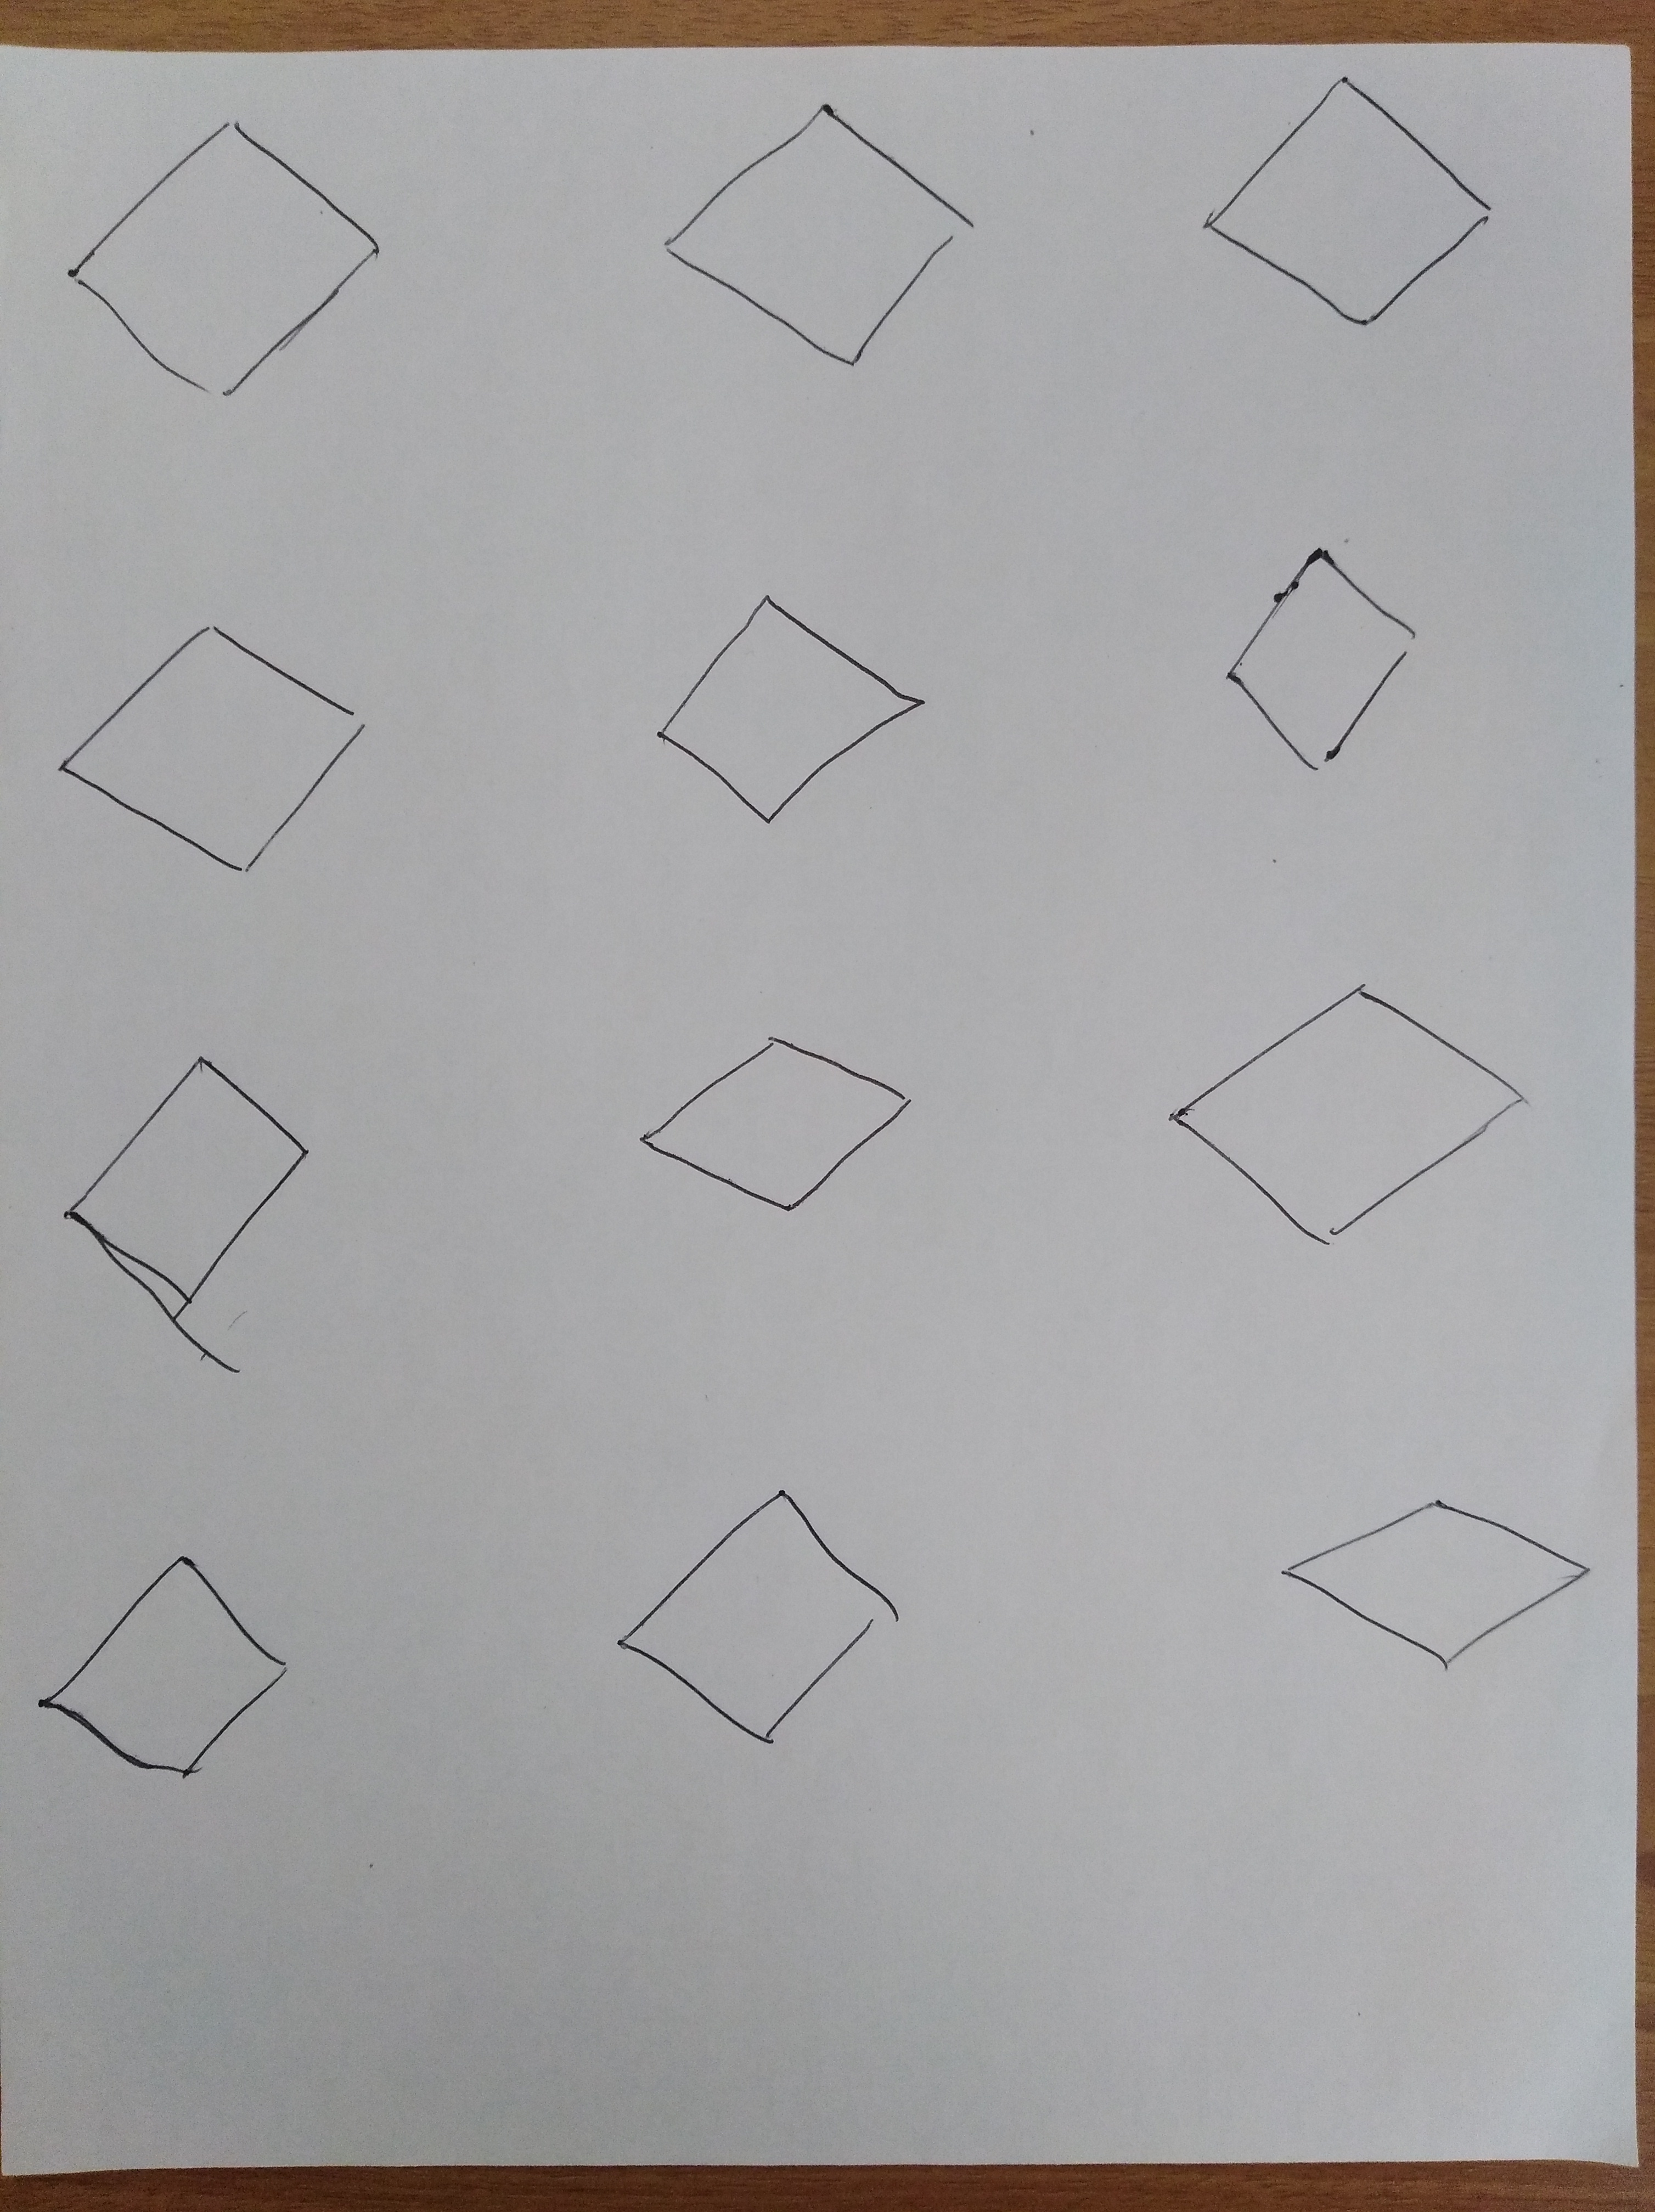decision: (1142, 926, 1559, 1288), (19, 992, 353, 1421), (33, 82, 417, 433), (570, 1458, 963, 1771), (636, 78, 1007, 396), (610, 561, 980, 865), (33, 593, 402, 897), (1255, 1413, 1612, 1722), (605, 977, 954, 1274), (1182, 66, 1518, 354), (26, 1519, 318, 1823), (1184, 513, 1453, 811)
